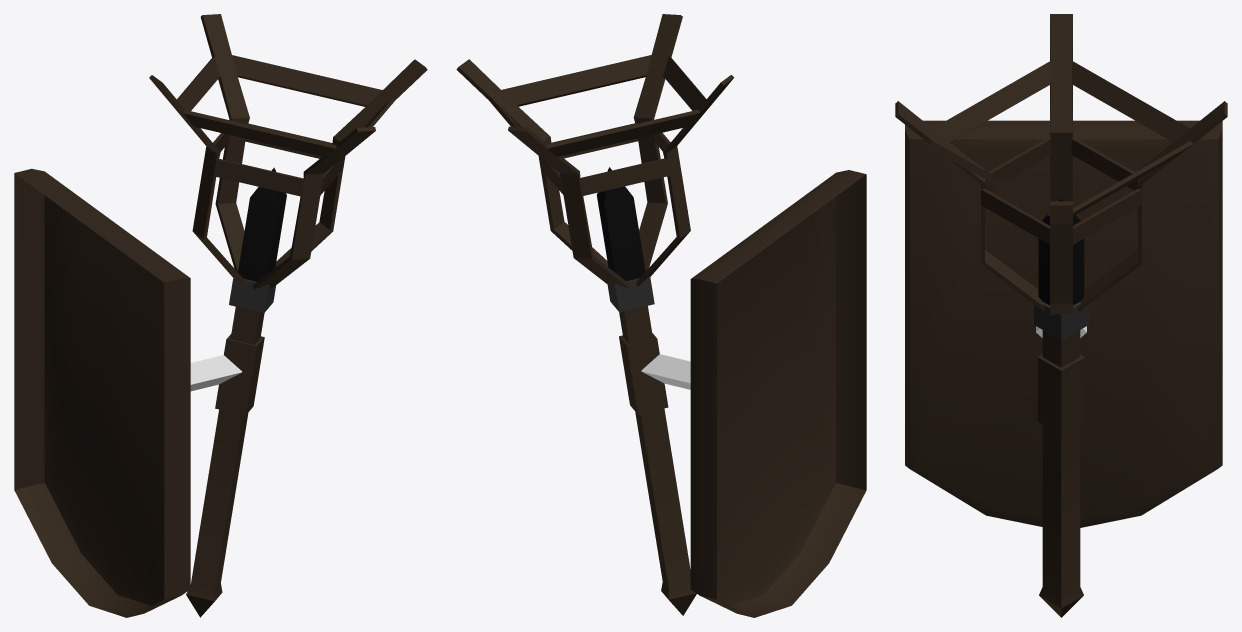
File: Wall_Torch.fbx
3 views of the same model, side by side, from view 1: azimuth 30°, elevation 25°; view 2: azimuth 150°, elevation 25°; view 3: azimuth 270°, elevation 25° (orthographic). The views are drawn at different scales.
Visible parts, largest first — view 1: Box016; view 2: Box016; view 3: Box016.
Part boxes in pixels (left/top/right/bottom): Box016: left=14, top=14, right=427, bottom=617; Box016: left=456, top=14, right=866, bottom=617; Box016: left=895, top=14, right=1227, bottom=617.
Size of the model in its own units: 38.36 by 60.67 by 31.43.
